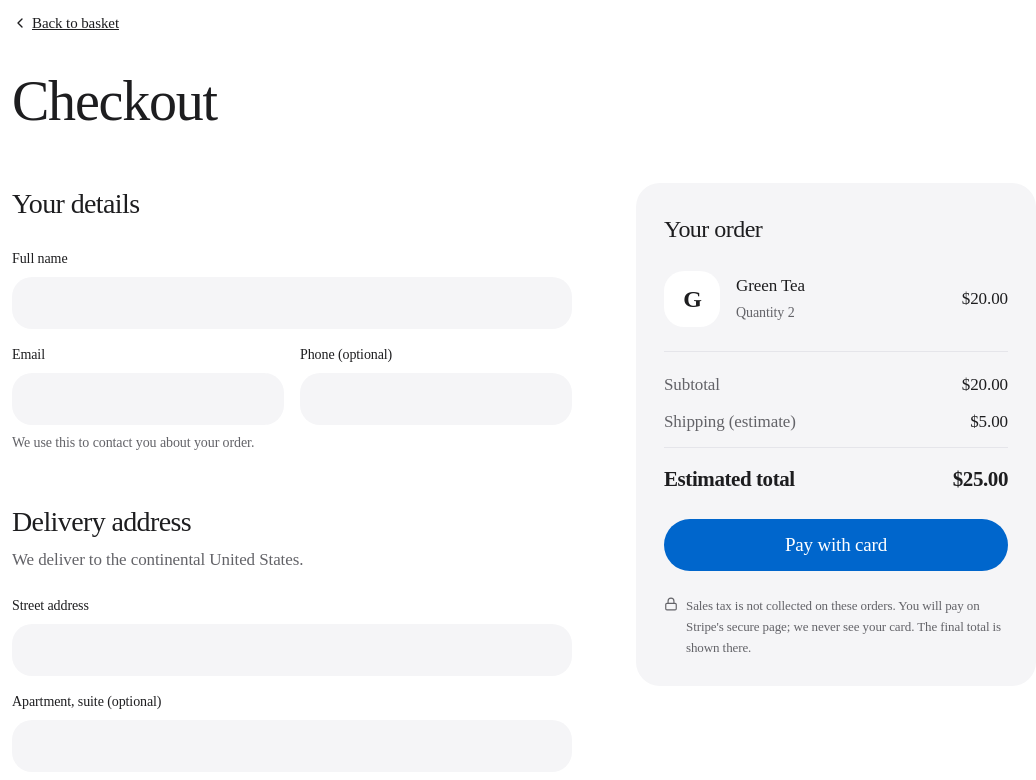
Scenario: checkout form errors › marks each wrong field, explains it next to the field, and moves focus to the first one
This screenshot has width=1036, height=780.
Click the button "Pay with card".
click(836, 545)  # box 664,519 -> 1008,571
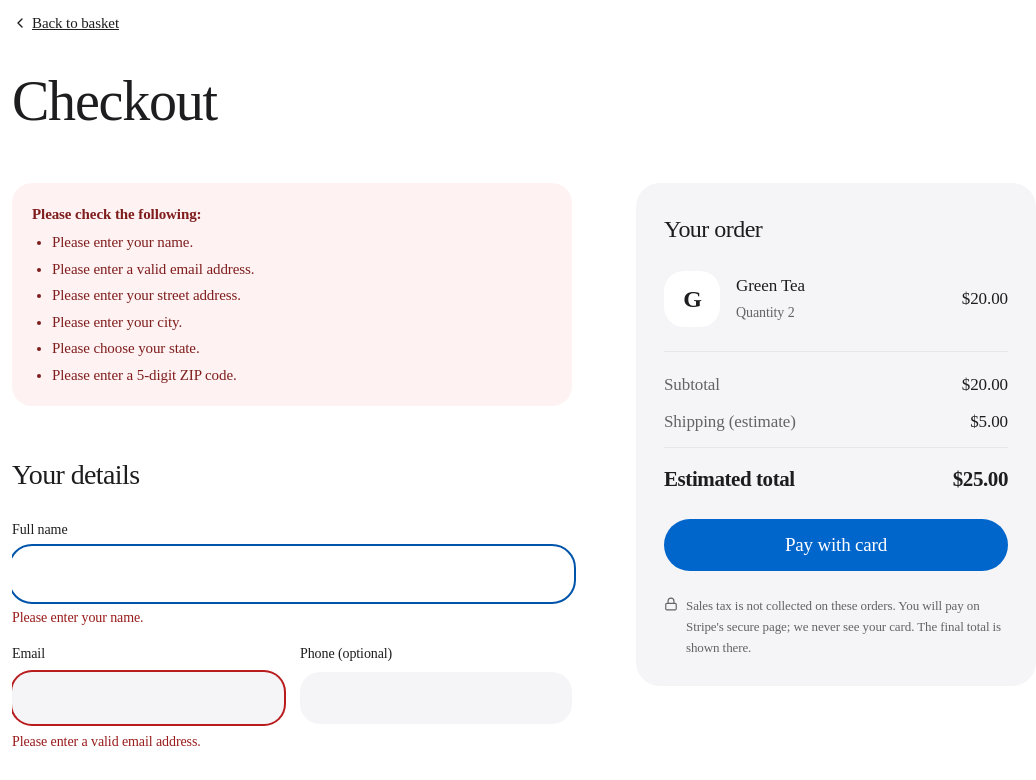
Check: the text "Please enter your name." is shown, box 12,610 -> 144,625
